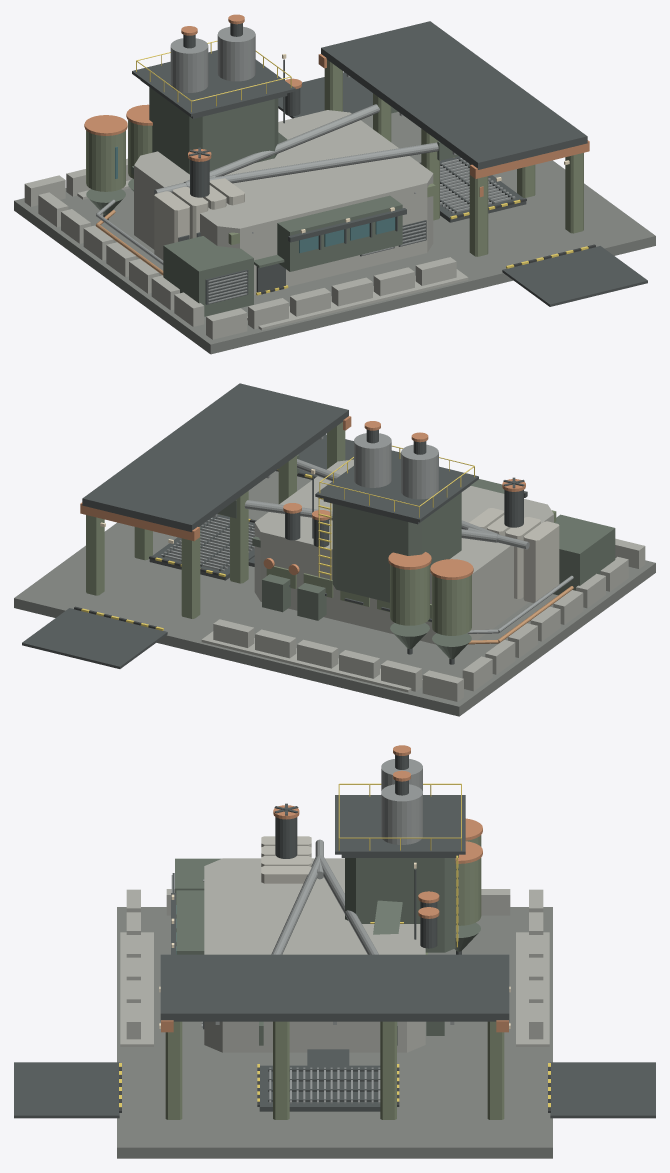
The model's file is aegis_field_refinery_v2.glb.
3 renders of one model, top to bottom at view 1: azimuth 30°, elevation 25°; view 2: azimuth 150°, elevation 25°; view 3: azimuth 270°, elevation 25°, orthographic. The views are drawn at different scales.
Parts seen in each view (by area): view 1: Static_steel_dark, Static_concrete, Static_concrete_dark, Static_secondary, Static_steel, Static_primary, Static_filter, Static_accent, Static_glass, Static_yellow; view 2: Static_steel_dark, Static_concrete_dark, Static_concrete, Static_secondary, Static_primary, Static_steel, Static_filter, Static_accent, Static_yellow, Static_copper; view 3: Static_steel_dark, Static_concrete_dark, Static_concrete, Static_secondary, Static_primary, Static_steel, Static_accent, Static_filter, Static_yellow.
Part boxes in pixels (<box>): Static_steel_dark: <box>103,21,647,306</box>; Static_concrete: <box>24,110,468,339</box>; Static_concrete_dark: <box>14,112,655,354</box>; Static_secondary: <box>86,87,458,316</box>; Static_steel: <box>96,26,515,303</box>; Static_primary: <box>86,59,583,256</box>; Static_filter: <box>154,178,244,260</box>; Static_accent: <box>84,14,589,178</box>; Static_glass: <box>115,146,395,253</box>; Static_yellow: <box>136,40,588,295</box>; Static_steel_dark: <box>22,383,527,668</box>; Static_concrete_dark: <box>14,471,655,716</box>; Static_concrete: <box>201,459,645,701</box>; Static_secondary: <box>217,454,615,659</box>; Static_primary: <box>86,422,556,635</box>; Static_steel: <box>161,433,573,633</box>; Static_filter: <box>469,508,559,602</box>; Static_accent: <box>80,416,525,579</box>; Static_yellow: <box>81,445,474,630</box>; Static_copper: <box>468,586,573,644</box>; Static_steel_dark: <box>14,755,655,1118</box>; Static_concrete_dark: <box>117,907,552,1158</box>; Static_concrete: <box>120,858,549,1052</box>; Static_secondary: <box>175,858,480,1045</box>; Static_primary: <box>165,835,504,1119</box>; Static_steel: <box>171,759,454,1103</box>; Static_accent: <box>161,745,508,1032</box>; Static_filter: <box>261,836,311,883</box>; Static_yellow: <box>119,783,550,1107</box>.
Bounding box in the file's own units: 34 × 15.21 × 38.3.
